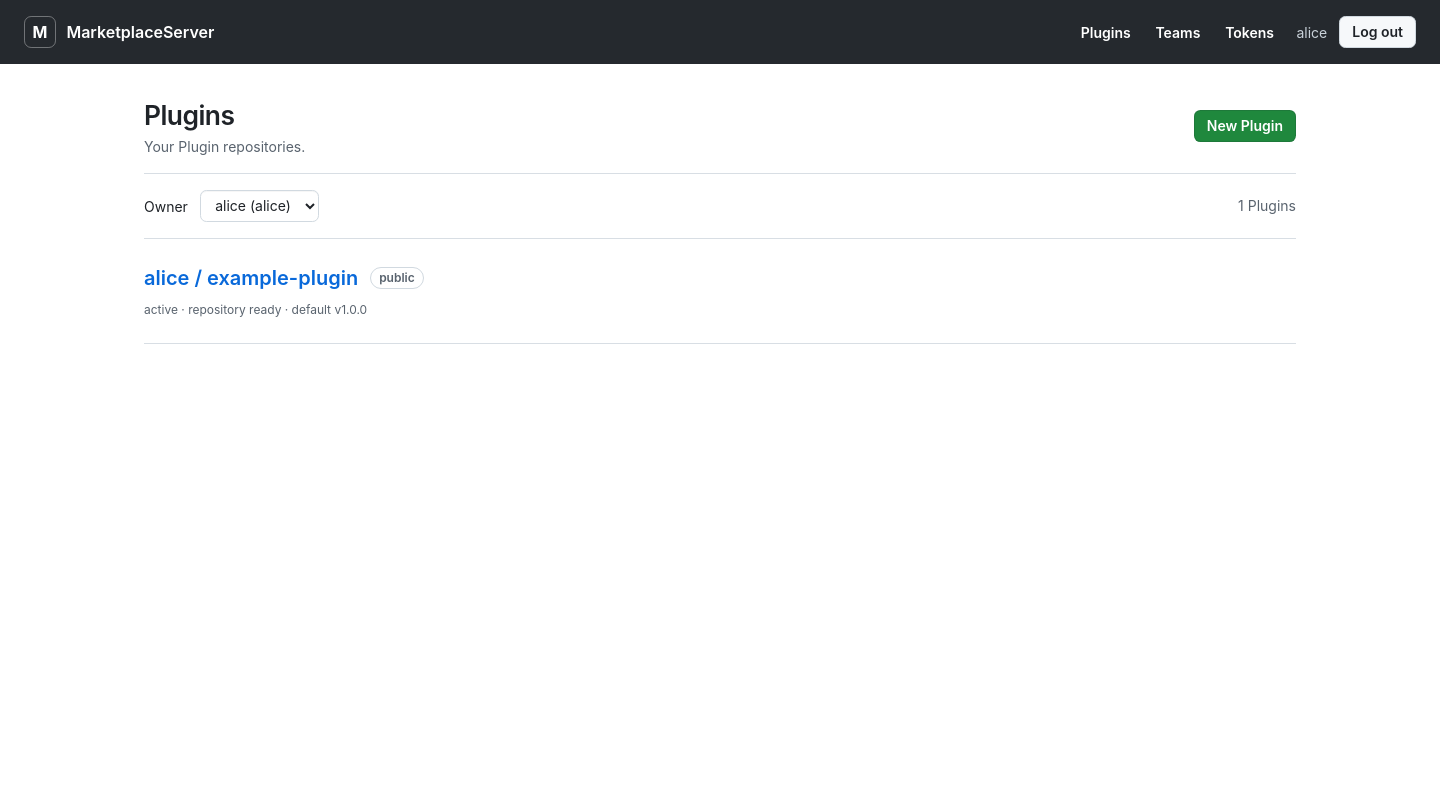
Test: Plugin pages › replaces a protected history entry on logout
The width and height of the screenshot is (1440, 810).
Step 1. Click the button "Log out" → click(1378, 32), box [1339,16,1416,48]
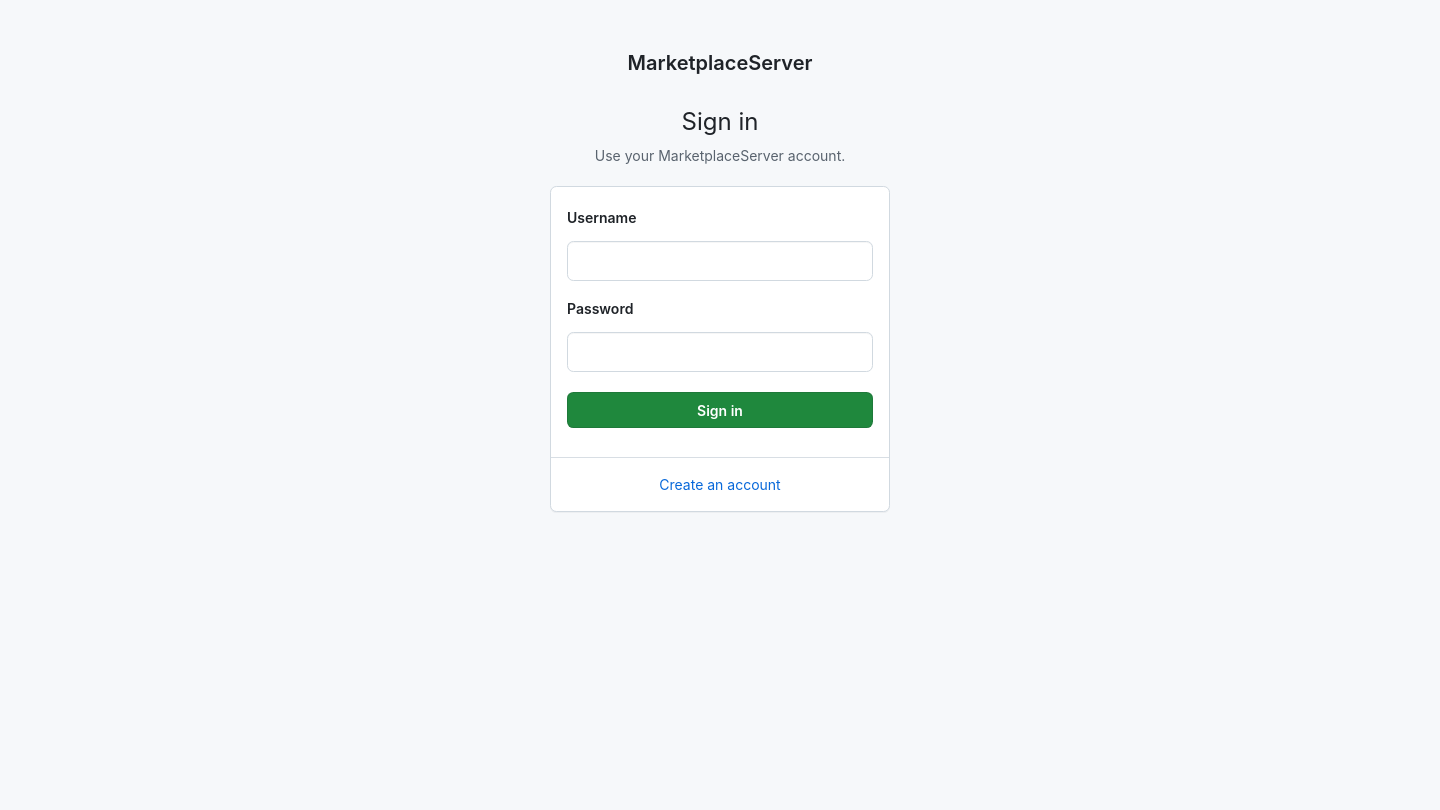
Now the button "Sign in" is shown, box [567,392,873,428]
